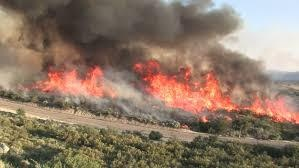fire: (141, 60, 294, 122), (28, 62, 113, 95)
